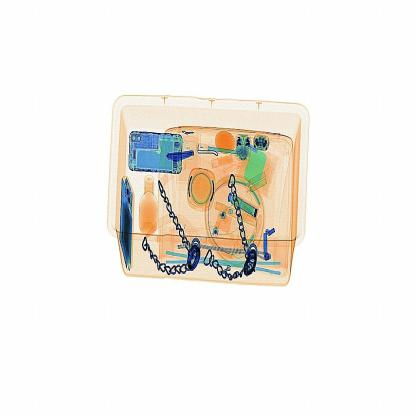knife: (165, 143, 205, 174)
